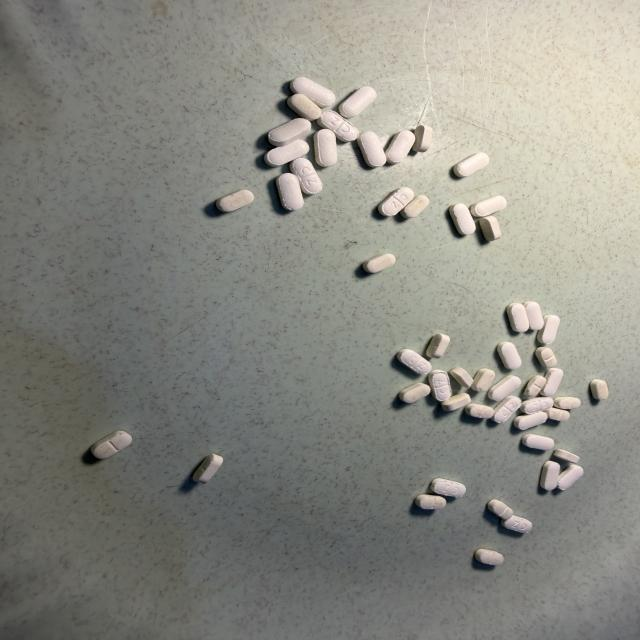pill: (290, 77, 335, 107), (317, 110, 359, 141), (268, 118, 310, 146), (264, 140, 309, 166), (290, 158, 322, 194), (91, 431, 132, 459), (339, 87, 376, 117), (378, 187, 414, 216), (276, 173, 303, 210), (358, 132, 386, 167), (386, 130, 415, 163), (287, 94, 321, 120), (397, 349, 431, 375), (193, 454, 223, 483), (449, 203, 476, 235), (314, 130, 337, 167), (454, 153, 489, 177), (488, 376, 521, 401), (216, 190, 253, 212), (471, 196, 507, 217), (493, 396, 521, 423), (429, 370, 451, 402), (400, 195, 429, 218), (430, 478, 465, 497), (558, 464, 583, 490), (497, 342, 521, 369), (537, 315, 559, 344), (362, 254, 395, 273), (399, 383, 430, 403), (541, 368, 563, 396), (507, 304, 529, 332), (514, 412, 548, 430), (540, 461, 560, 490), (426, 334, 450, 357), (479, 216, 501, 241), (524, 302, 543, 330), (521, 434, 554, 450), (501, 516, 532, 533), (413, 125, 432, 152), (521, 397, 553, 413), (472, 369, 495, 391), (487, 500, 513, 519), (442, 394, 470, 411), (415, 494, 446, 509), (475, 549, 504, 565), (525, 375, 546, 397), (450, 367, 473, 387), (536, 347, 557, 367), (465, 404, 494, 418), (553, 449, 580, 463), (590, 379, 608, 399), (554, 397, 580, 409), (547, 408, 570, 421)
